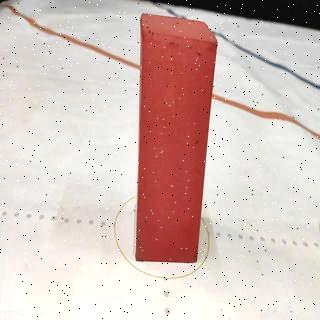redbox: (134, 12, 218, 264)
